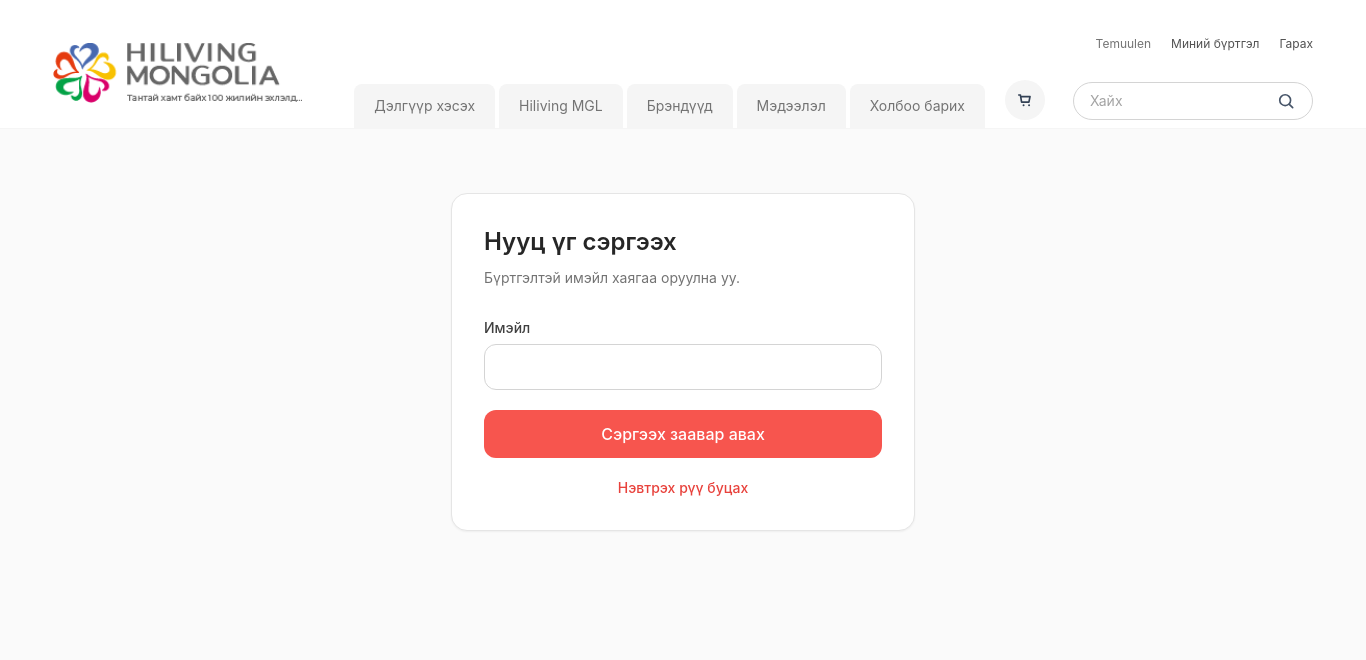
Test: account recovery pages › shows the same accepted forgot-password message without account disclosure
The image size is (1366, 660).
Type "missing@example.com" into the field labelled "Имэйл".
click(683, 367); type("missing@example.com")  # box x1=484 y1=344 x2=882 y2=390
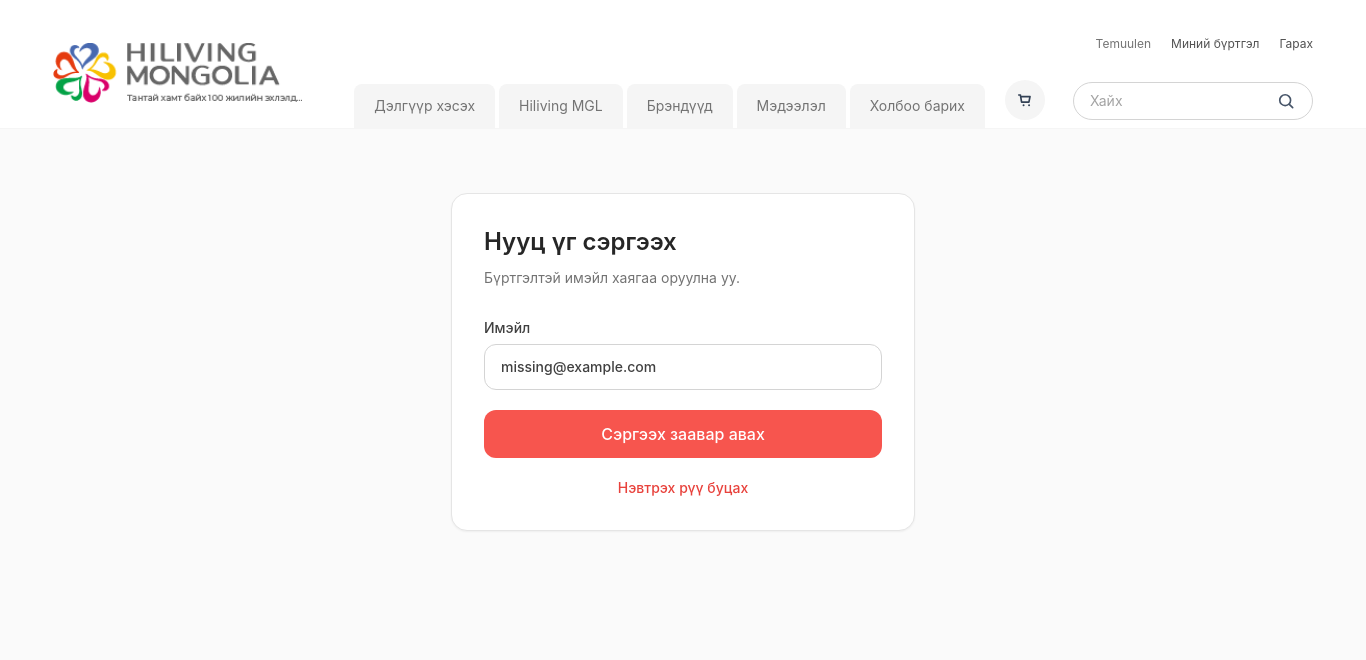
Click the button "Сэргээх заавар авах".
click(683, 434)  # box x1=484 y1=410 x2=882 y2=458
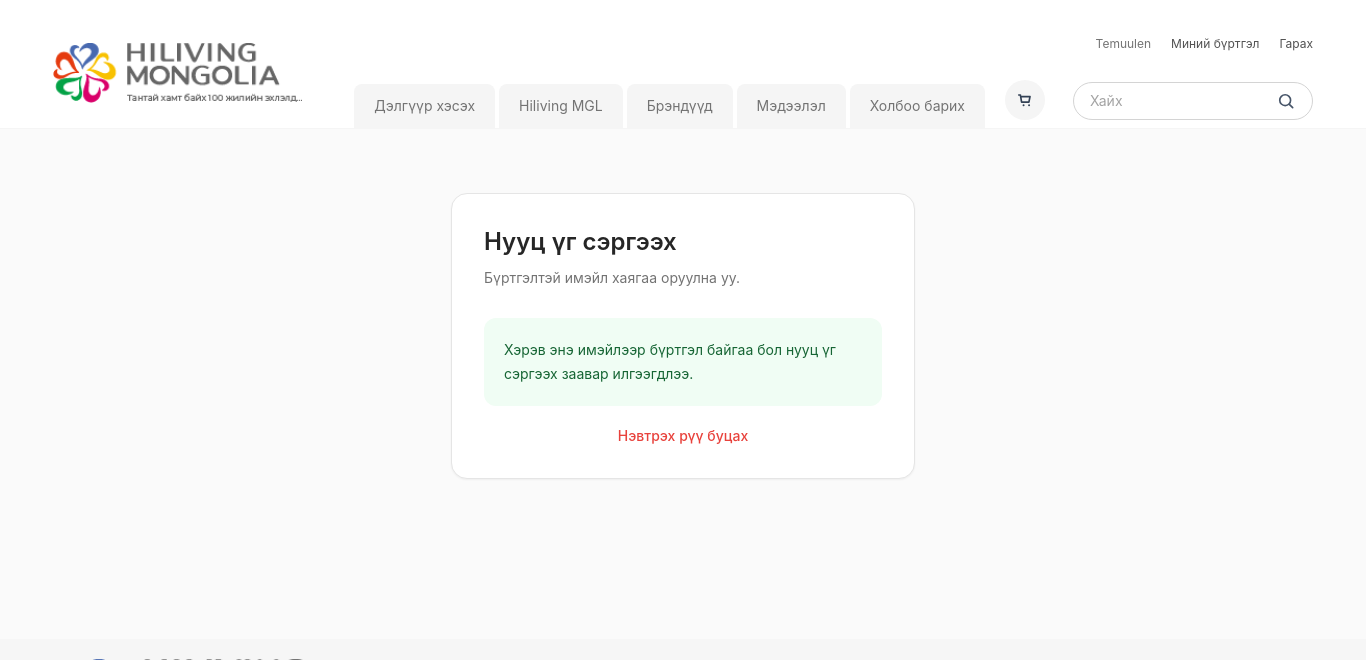
Check: the message shows "Хэрэв энэ имэйлээр бүртгэл байгаа бол", box x1=504 y1=341 x2=836 y2=382
